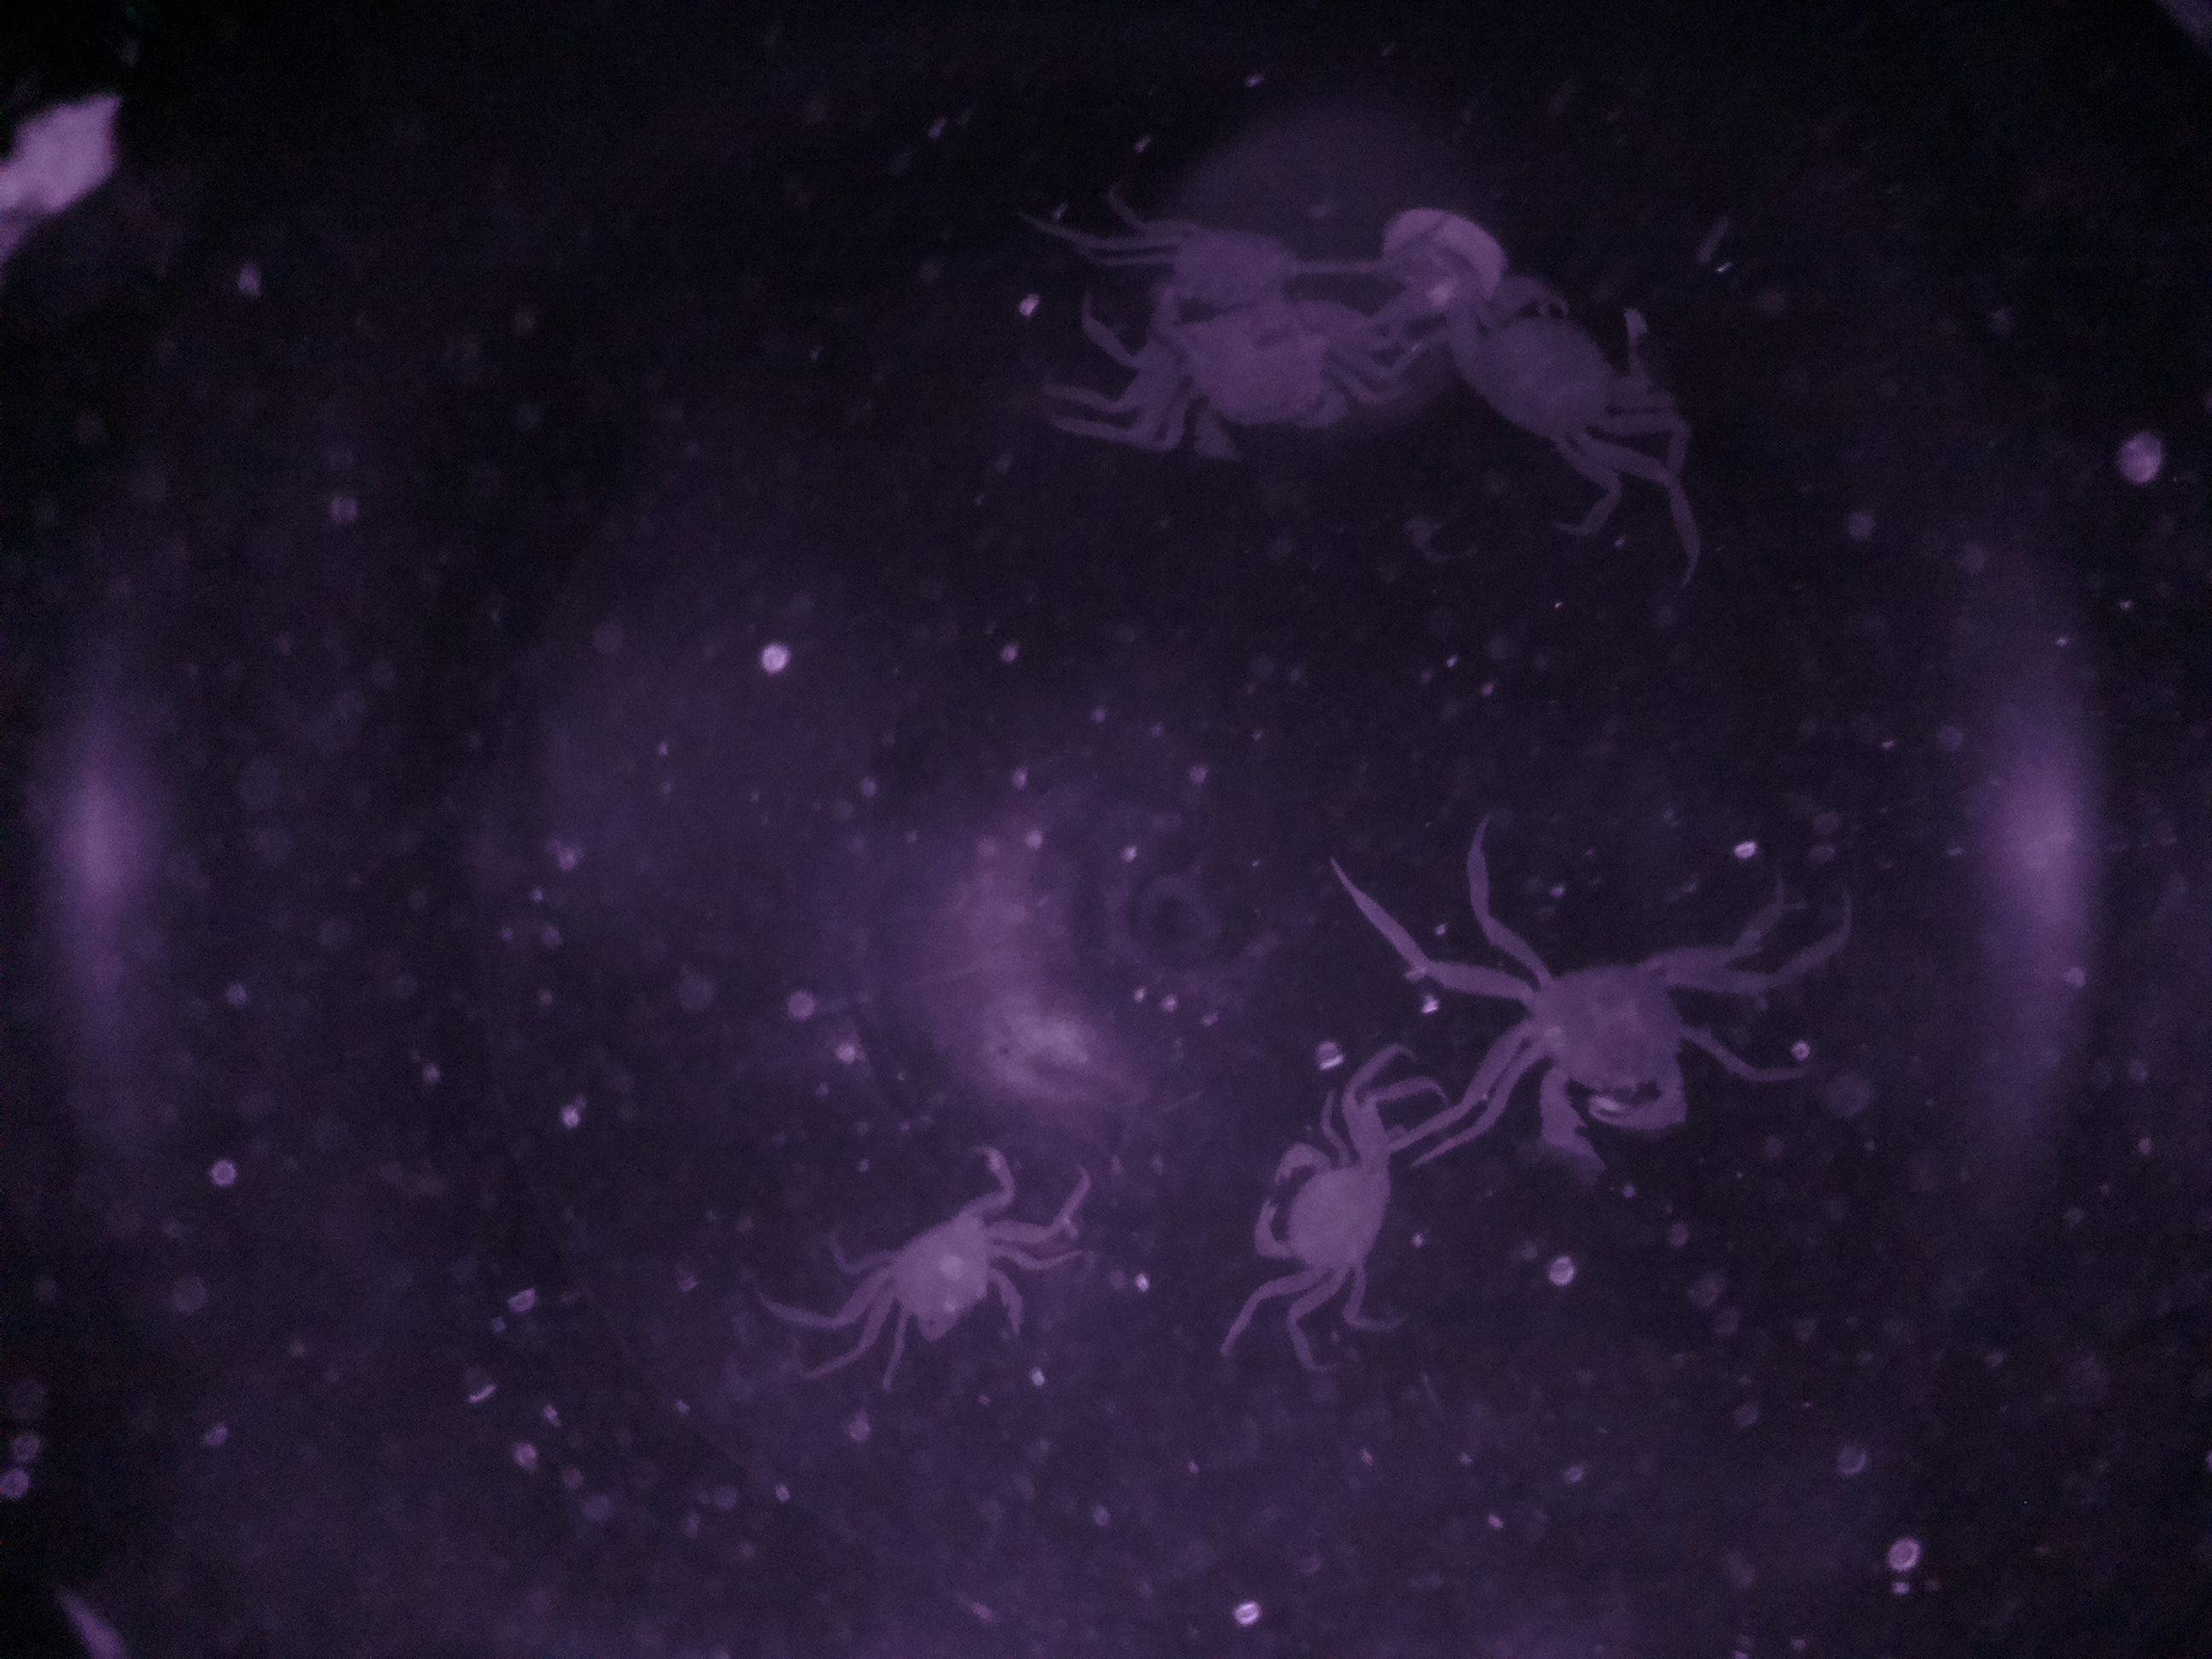Crab: (1425, 931, 1789, 1169), (836, 1187, 1068, 1380), (1237, 1112, 1426, 1337)
